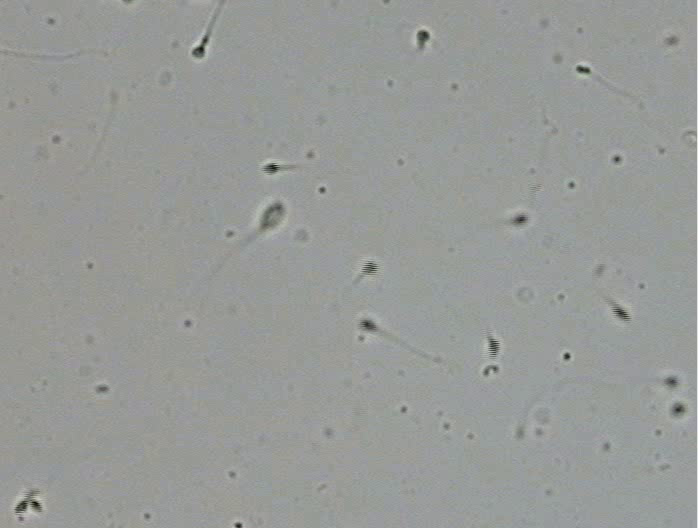S: (260, 202, 286, 230), (611, 304, 631, 322), (487, 337, 500, 359), (361, 260, 378, 276), (358, 319, 377, 333), (416, 30, 430, 48), (262, 162, 281, 175), (14, 500, 28, 514), (192, 44, 205, 59), (30, 498, 42, 514), (575, 64, 592, 75), (513, 213, 527, 226), (672, 403, 685, 417), (663, 376, 678, 388)
